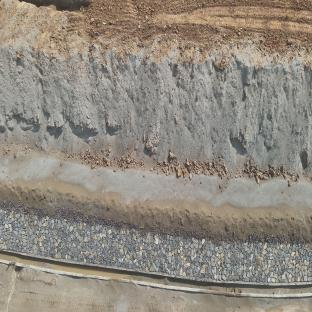rock_toe: (0, 206, 312, 280)
toe_drain: (0, 249, 312, 298)
